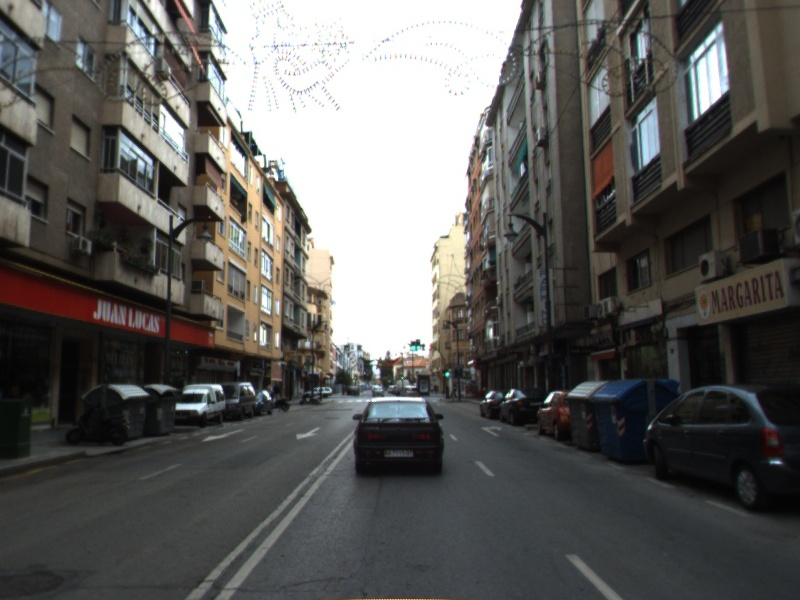RIGHT: (480, 424, 503, 438)
